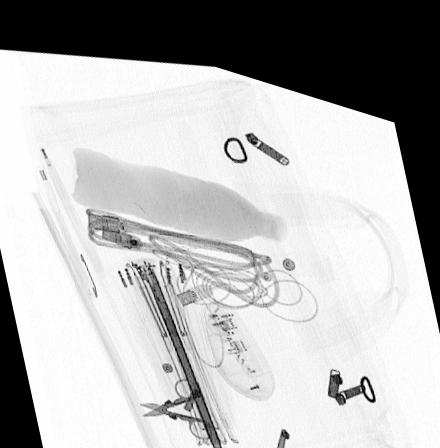Scissors: (137, 366, 215, 428)
